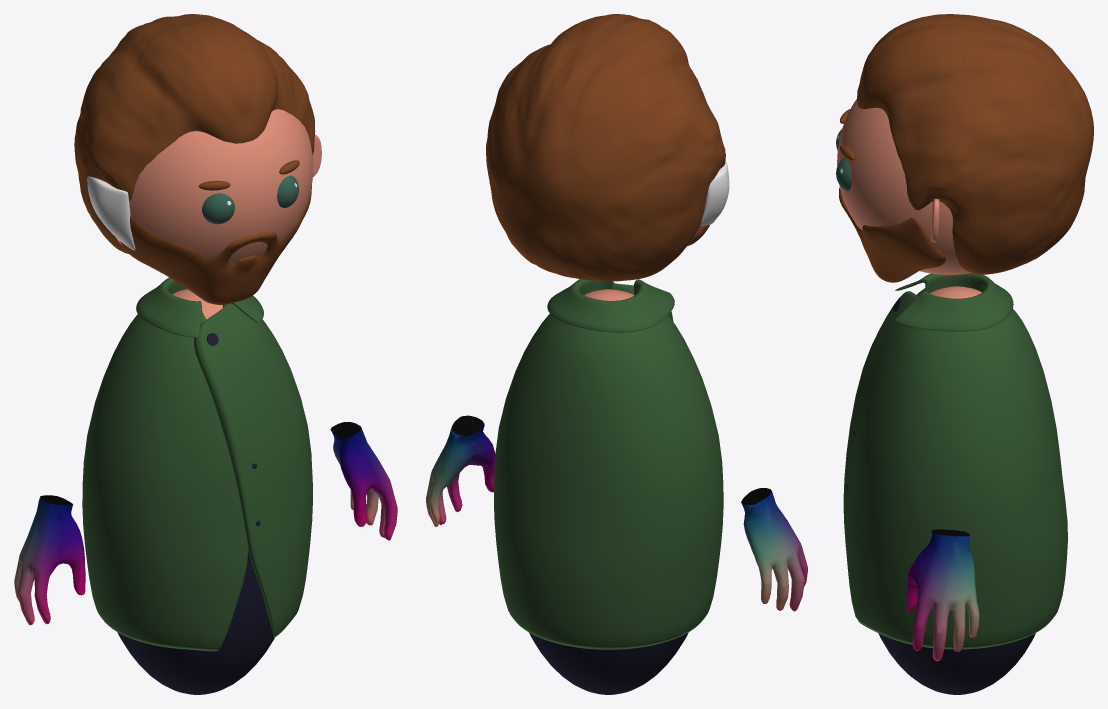
File: VanGogh.fbx
The picture shows the model from 3 angles, left to right: view 1: azimuth 30°, elevation 25°; view 2: azimuth 150°, elevation 25°; view 3: azimuth 270°, elevation 25°; orthographic projection.
Parts seen in each view (by area): view 1: Shirt.001, Hair.001, Head.001, Hands.001, Body.002, Beard.002, Cube.002, Eyes; view 2: Shirt.001, Hair.001, Hands.001, Body.002, Cube.002; view 3: Shirt.001, Hair.001, Head.001, Hands.001, Body.002, Beard.002, Eyes.
Boxes of the visible parts, box(x1,y1,x2,y2) form: Shirt.001: box(82, 277, 312, 651); Hair.001: box(74, 14, 315, 253); Head.001: box(115, 109, 313, 263); Hands.001: box(14, 422, 397, 625); Body.002: box(117, 289, 274, 694); Beard.002: box(120, 185, 311, 304); Cube.002: box(87, 176, 135, 250); Eyes: box(202, 175, 298, 224); Shirt.001: box(494, 279, 723, 649); Hair.001: box(486, 14, 725, 281); Hands.001: box(426, 415, 807, 611); Body.002: box(529, 289, 688, 694); Cube.002: box(700, 161, 729, 225); Shirt.001: box(843, 273, 1067, 649); Hair.001: box(857, 14, 1093, 274); Head.001: box(837, 99, 970, 274); Hands.001: box(906, 529, 979, 661); Body.002: box(878, 286, 1035, 694); Beard.002: box(839, 187, 946, 282); Eyes: box(836, 129, 852, 191).
Size of the model in its own units: 383 by 648 by 227.
